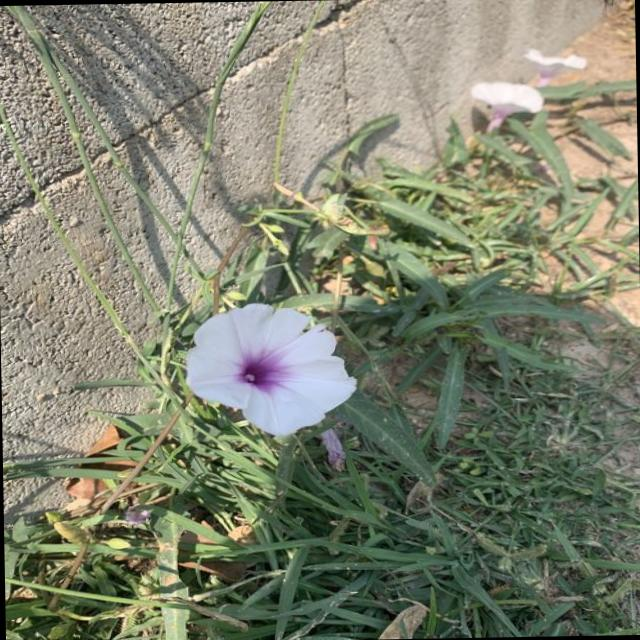ipomoea: (178, 299, 360, 441)
